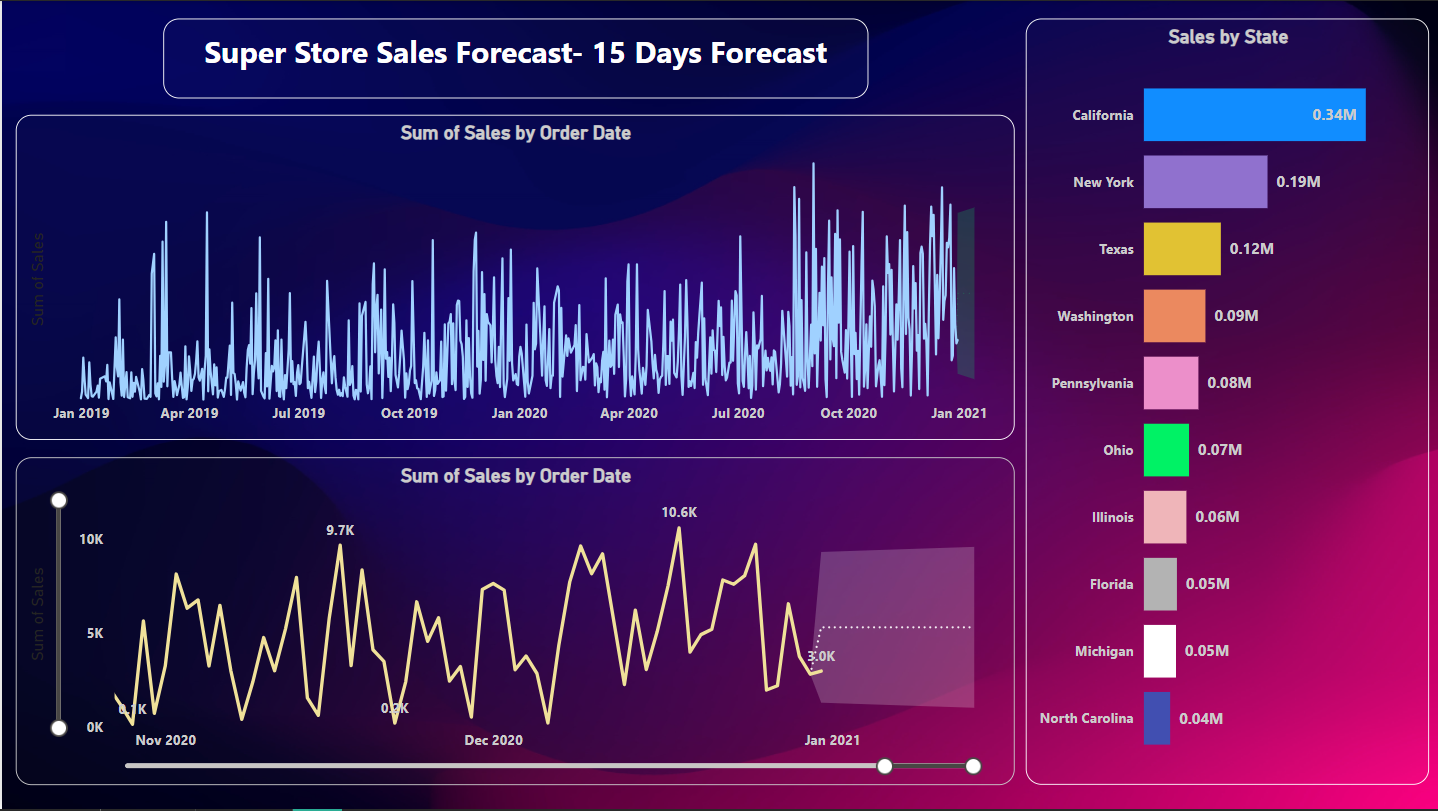

The dashboard page shown, as its layout file describes it:
{"tool":"powerbi","page":{"name":"Page 2","canvas":[1280,720],"ordinal":1},"visuals":[{"type":"lineChart","fields":{"Y":["Sum(SuperStore_Sales_Dataset.Sales)"],"Category":["SuperStore_Sales_Dataset.Order Date"]},"box":[12.3,406.1,889.6,292],"z":0},{"type":"lineChart","fields":{"Y":["Sum(SuperStore_Sales_Dataset.Sales)"],"Category":["SuperStore_Sales_Dataset.Order Date"]},"box":[12.3,101.8,889.6,289.6],"z":1000},{"type":"barChart","title":"Sales by State","fields":{"Category":["SuperStore_Sales_Dataset.State"],"Y":["Sum(SuperStore_Sales_Dataset.Sales)"]},"box":[911.7,16,359.5,682.2],"z":1001},{"type":"textbox","box":[143.6,16,628.2,71.2],"z":1002}]}

Visuals, with their boxes in screenshot pixels (x1, y1, x2, y2), scaled from the page's 1280x720 canvas onto the 1438x811 screenshot:
lineChart - Sum(SuperStore_Sales_Dataset.Sales) x SuperStore_Sales_Dataset.Order Date: rect(14, 457, 1013, 786)
lineChart - Sum(SuperStore_Sales_Dataset.Sales) x SuperStore_Sales_Dataset.Order Date: rect(14, 115, 1013, 441)
"Sales by State" barChart: rect(1024, 18, 1428, 786)
textbox: rect(161, 18, 867, 98)
